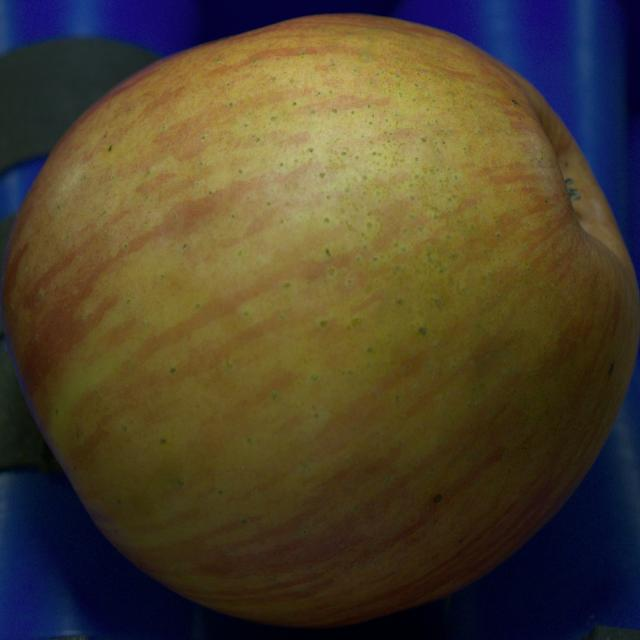apple: (0, 14, 639, 626)
pest: (608, 363, 614, 375), (434, 494, 441, 502)
